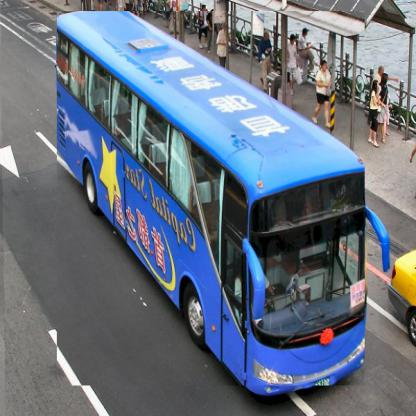bus: (57, 12, 366, 388)
